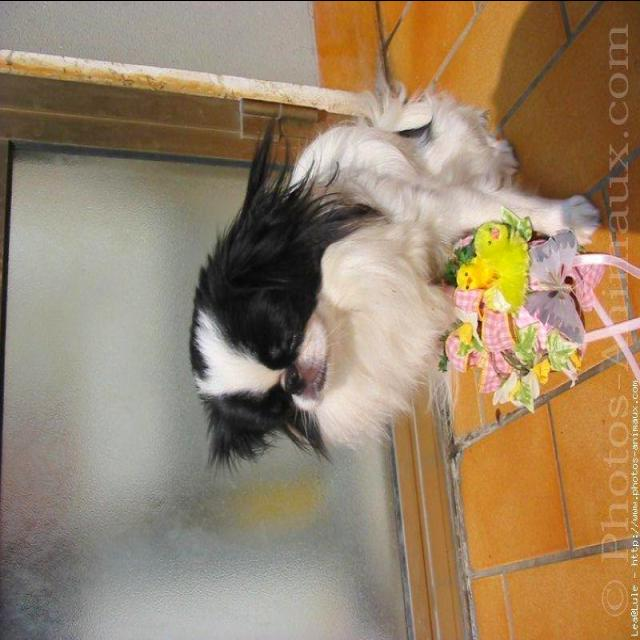husky: (186, 77, 600, 463)
